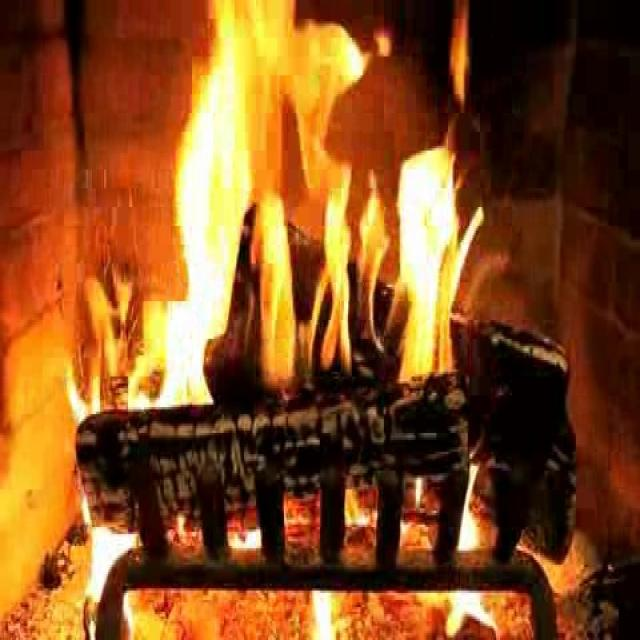fire: (160, 4, 473, 416)
